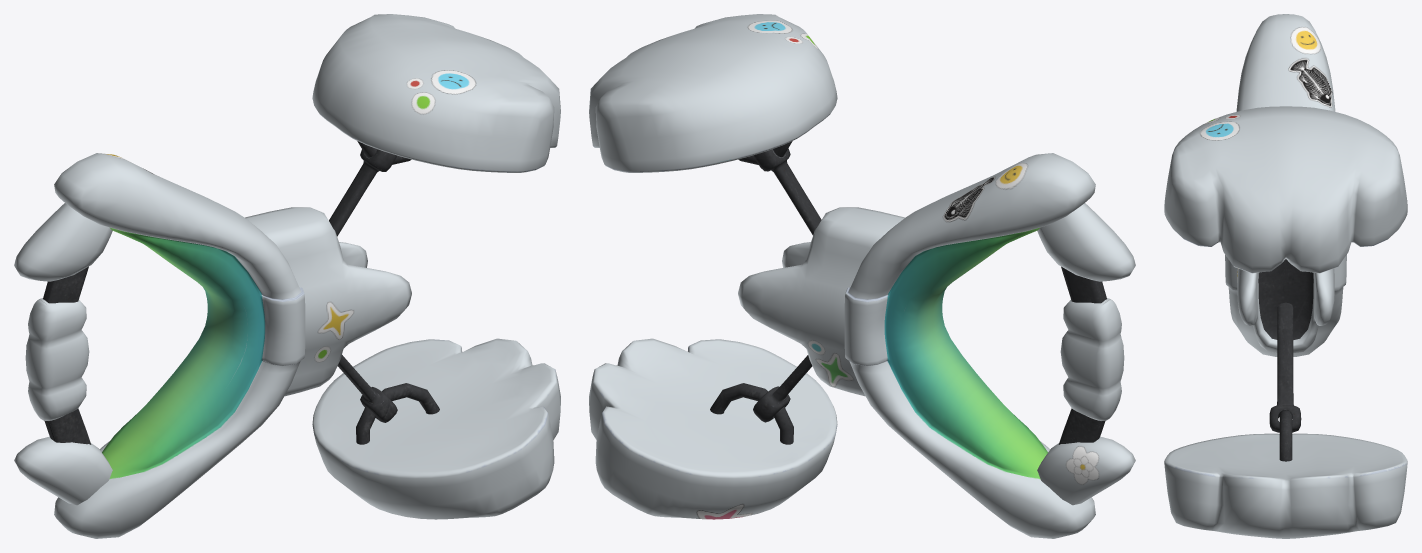
Rendered from Catpaw Gun with textrures V2.fbx.
The picture shows the model from 3 angles, left to right: view 1: azimuth 30°, elevation 25°; view 2: azimuth 150°, elevation 25°; view 3: azimuth 270°, elevation 25°; orthographic projection. The views are drawn at different scales.
Parts seen in each view (by area): view 1: Catpaw Gun; view 2: Catpaw Gun; view 3: Catpaw Gun.
Boxes of the visible parts, x1,y1,x2,y2 form: Catpaw Gun: [14, 14, 560, 538]; Catpaw Gun: [589, 14, 1135, 538]; Catpaw Gun: [1164, 14, 1407, 538].
Size of the model in its own units: 354 by 286 by 158.
Materials: 1 (1 with a texture image).
